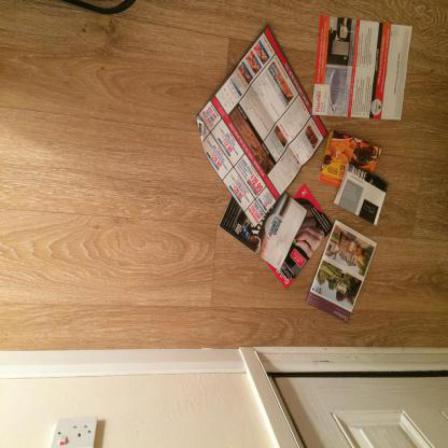Paper: (197, 25, 329, 229), (313, 16, 414, 122), (264, 184, 334, 291), (307, 221, 378, 324), (220, 193, 308, 273), (320, 132, 382, 189), (335, 163, 390, 226)
